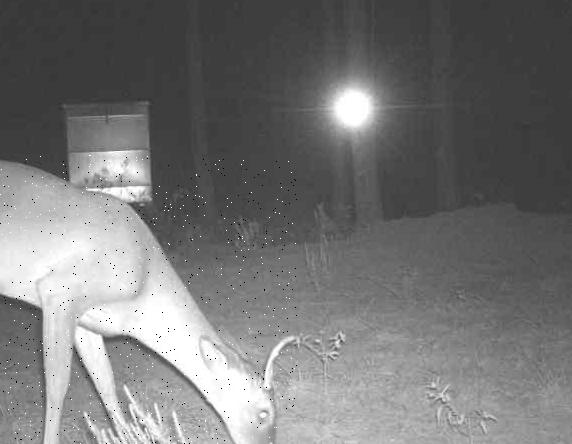Deer: (0, 155, 297, 444)
